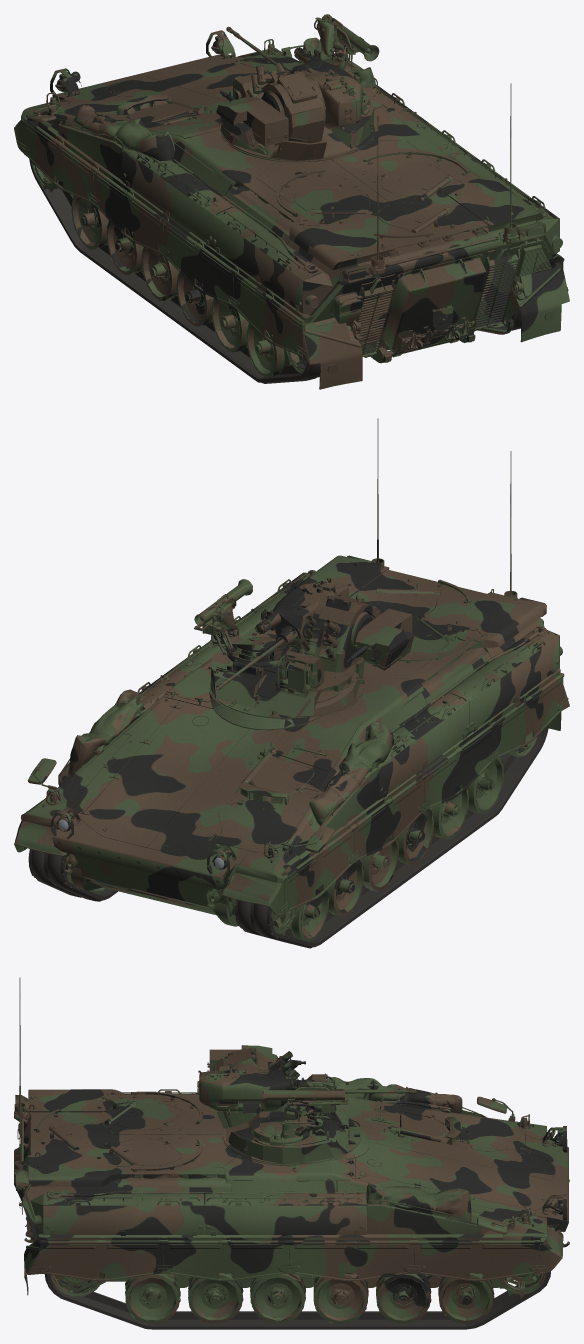
Rendered from marder.glb.
The picture shows the model from 3 angles, top to bottom: view 1: azimuth 30°, elevation 25°; view 2: azimuth 150°, elevation 25°; view 3: azimuth 270°, elevation 25°; orthographic projection. The views are drawn at different scales.
Parts seen in each view (by area): view 1: V_marder__Body_1, V_marder__Body_3, V_marder__Body_4, V_marder__Body_2, V_marder__Turret_1, V_marder__Gun_1, V_marder__Body_6, V_marder__W04_1, V_marder__W06_1, V_marder__W02_1, V_marder__W07_1, V_marder__W03_1 (+1 smaller); view 2: V_marder__Body_3, V_marder__Body_1, V_marder__Body_4, V_marder__Body_2, V_marder__Turret_1, V_marder__Gun_1, V_marder__Body_6, V_marder__Body_7, V_marder__W03_1, V_marder__W05_1, V_marder__W07_1, V_marder__W02_1 (+2 smaller); view 3: V_marder__Body_3, V_marder__Body_4, V_marder__Body_1, V_marder__Body_2, V_marder__Turret_1, V_marder__Body_7, V_marder__Gun_1, V_marder__W16_1, V_marder__W18_1, V_marder__W14_1, V_marder__W15_1, V_marder__W13_1 (+4 smaller).
Boxes of the visible parts, bbox=[...] form: V_marder__Body_1: bbox=[21, 48, 564, 363]; V_marder__Body_3: bbox=[57, 60, 558, 349]; V_marder__Body_4: bbox=[14, 30, 569, 389]; V_marder__Body_2: bbox=[55, 37, 454, 276]; V_marder__Turret_1: bbox=[220, 14, 379, 160]; V_marder__Gun_1: bbox=[216, 26, 365, 158]; V_marder__Body_6: bbox=[29, 159, 320, 383]; V_marder__W04_1: bbox=[141, 247, 179, 301]; V_marder__W06_1: bbox=[211, 298, 249, 352]; V_marder__W02_1: bbox=[71, 195, 109, 249]; V_marder__W07_1: bbox=[246, 323, 291, 377]; V_marder__W03_1: bbox=[106, 221, 143, 275]; V_marder__Body_3: bbox=[58, 569, 559, 854]; V_marder__Body_1: bbox=[21, 558, 564, 926]; V_marder__Body_4: bbox=[14, 418, 569, 915]; V_marder__Body_2: bbox=[67, 586, 525, 856]; V_marder__Turret_1: bbox=[194, 579, 380, 718]; V_marder__Gun_1: bbox=[216, 577, 414, 689]; V_marder__Body_6: bbox=[234, 724, 549, 948]; V_marder__Body_7: bbox=[28, 849, 117, 901]; V_marder__W03_1: bbox=[327, 860, 363, 916]; V_marder__W05_1: bbox=[398, 808, 433, 865]; V_marder__W07_1: bbox=[468, 757, 503, 814]; V_marder__W02_1: bbox=[280, 885, 329, 941]; V_marder__Body_3: bbox=[26, 1089, 553, 1284]; V_marder__Body_4: bbox=[15, 977, 567, 1295]; V_marder__Body_1: bbox=[14, 1091, 569, 1287]; V_marder__Body_2: bbox=[29, 1077, 495, 1287]; V_marder__Turret_1: bbox=[213, 1048, 361, 1164]; V_marder__Body_7: bbox=[44, 1244, 550, 1329]; V_marder__Gun_1: bbox=[197, 1045, 416, 1119]; V_marder__W16_1: bbox=[250, 1269, 305, 1323]; V_marder__W18_1: bbox=[125, 1269, 180, 1323]; V_marder__W14_1: bbox=[376, 1269, 431, 1323]; V_marder__W15_1: bbox=[313, 1273, 368, 1323]; V_marder__W13_1: bbox=[438, 1273, 494, 1323].
Size of the model in its own units: 10.36 by 10.26 by 18.99.
6 materials, 1 textured.
